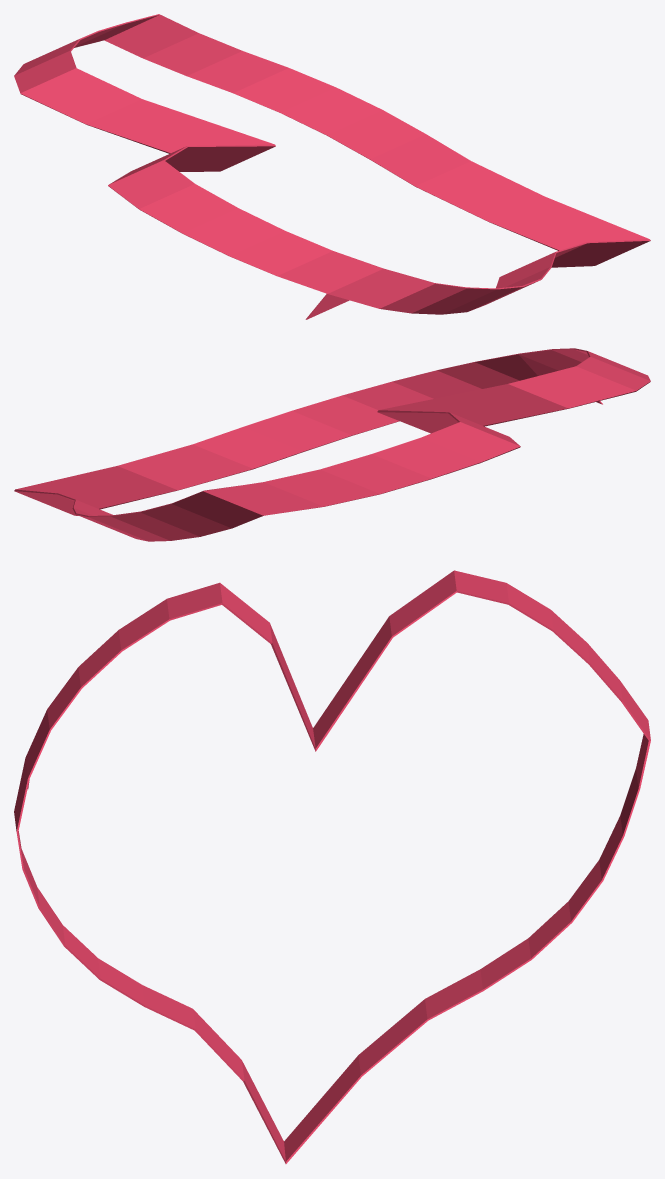
Rendered from heart.fbx.
The picture shows the model from 3 angles, top to bottom: view 1: azimuth 30°, elevation 25°; view 2: azimuth 150°, elevation 25°; view 3: azimuth 270°, elevation 25°; orthographic projection. The views are drawn at different scales.
Parts seen in each view (by area): view 1: Circle; view 2: Circle; view 3: Circle.
Boxes of the visible parts, x1,y1,x2,y2 form: Circle: (14, 14, 650, 319); Circle: (14, 348, 650, 541); Circle: (14, 570, 650, 1163).
Bounding box in the file's own units: 1080 × 457 × 886.
